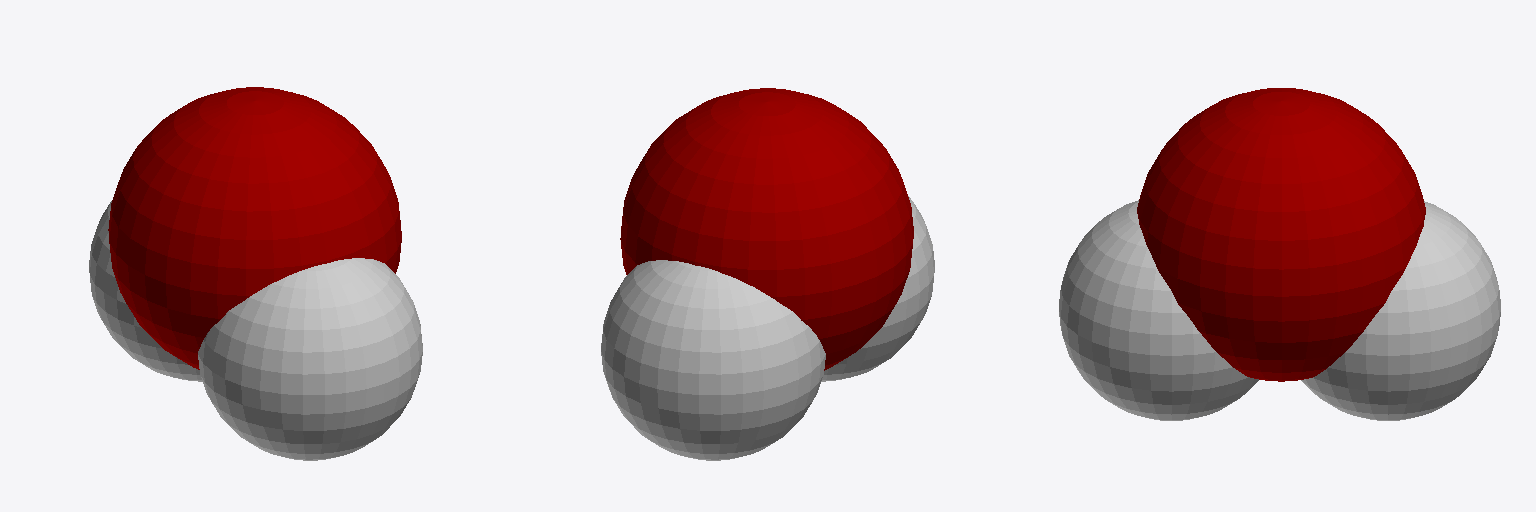
File: molecule.obj
3 renders of one model, left to right at view 1: azimuth 30°, elevation 25°; view 2: azimuth 150°, elevation 25°; view 3: azimuth 270°, elevation 25°, orthographic.
Parts seen in each view (by area): view 1: Sphere, Sphere.001, Sphere.002; view 2: Sphere, Sphere.002, Sphere.001; view 3: Sphere, Sphere.001, Sphere.002.
Boxes of the visible parts, box(x1,y1,x2,y2) form: Sphere: box(108, 87, 401, 369); Sphere.001: box(198, 258, 422, 460); Sphere.002: box(89, 201, 202, 381); Sphere: box(620, 88, 913, 370); Sphere.002: box(601, 260, 825, 460); Sphere.001: box(821, 196, 934, 381); Sphere: box(1137, 88, 1425, 381); Sphere.001: box(1059, 200, 1258, 420); Sphere.002: box(1301, 201, 1500, 420).
Bounding box in the file's own units: 2.6 × 3.02 × 3.91.